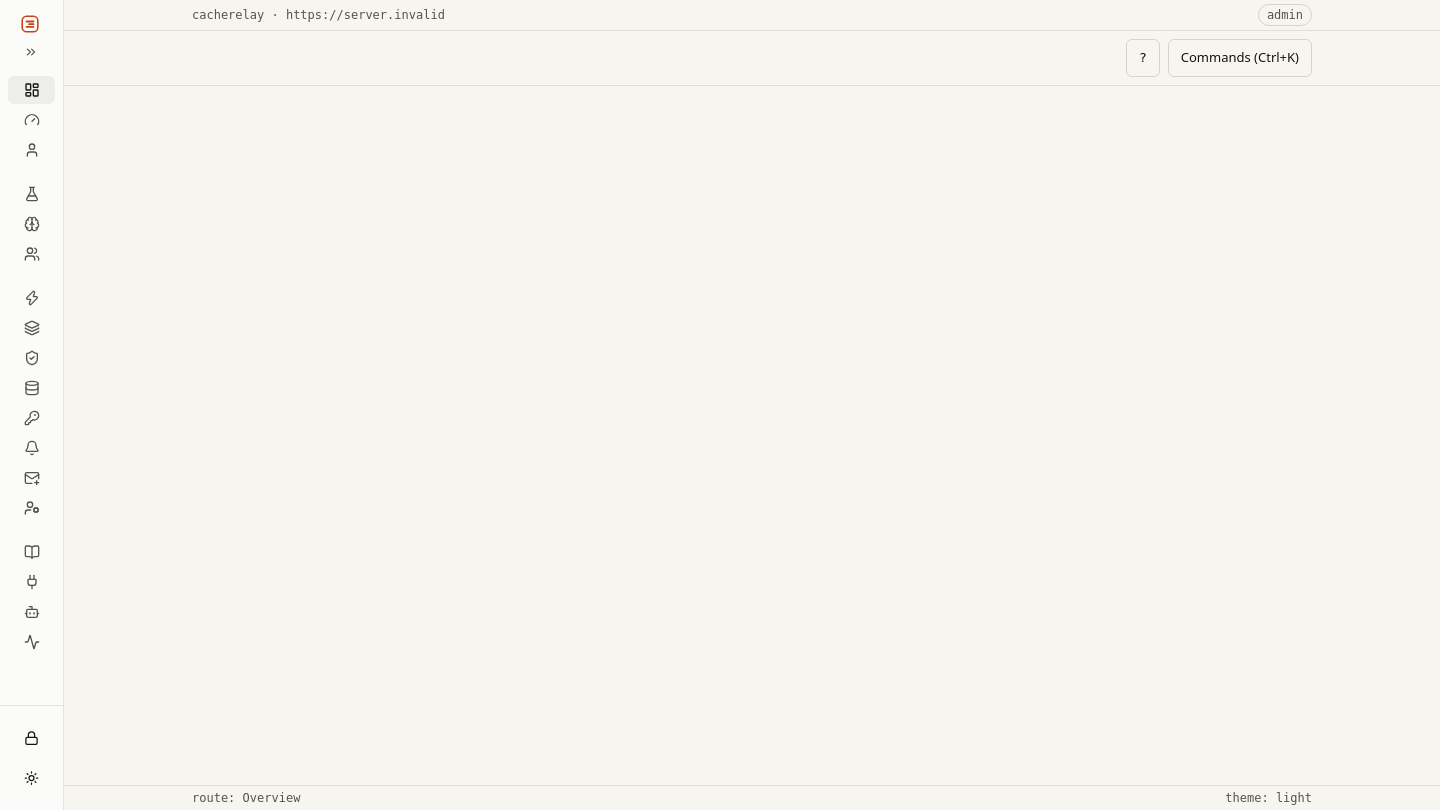
it: Layout › locks from the collapsed sidebar
Click the button named "lock console" at (32, 738), box [16,722,47,754]
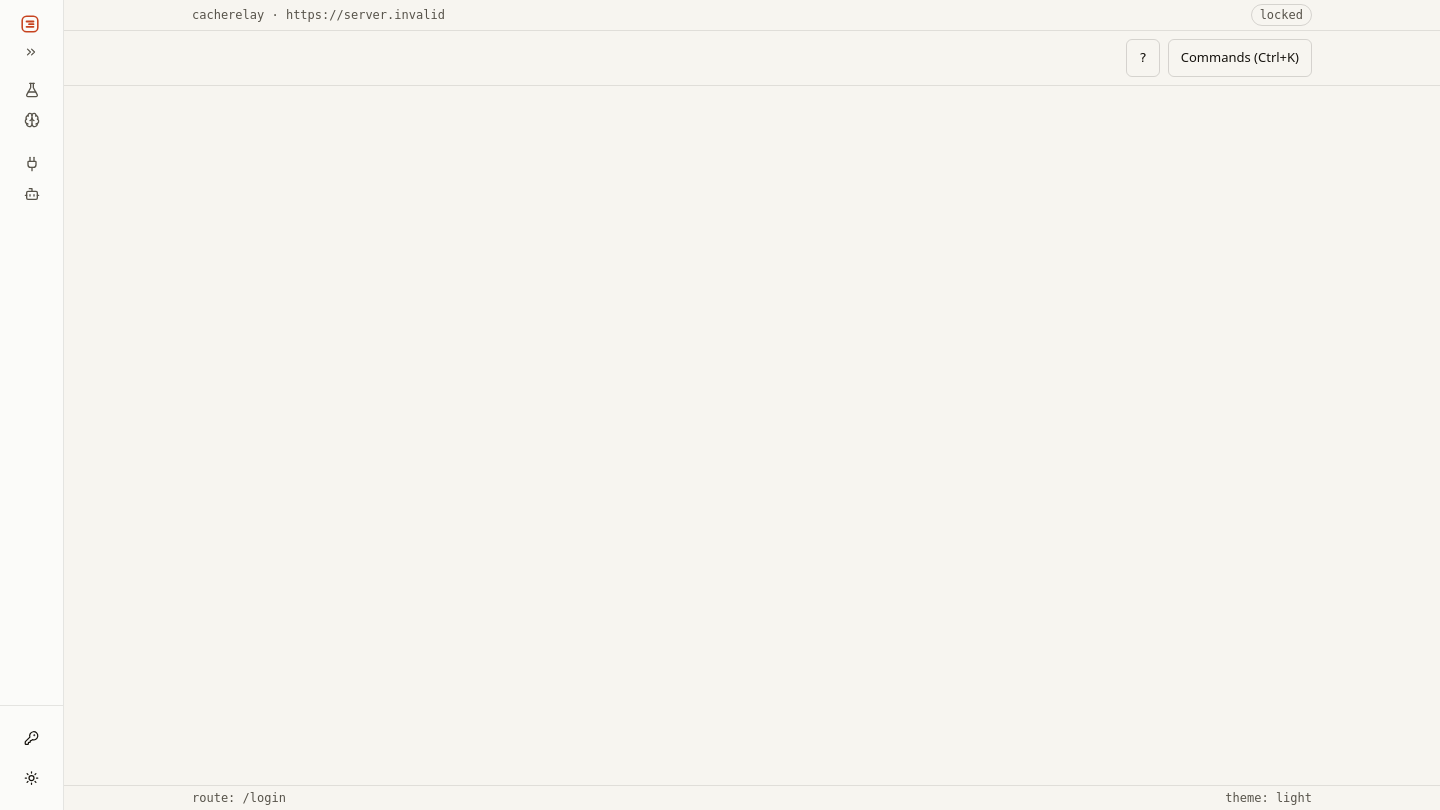
Result: the link named "log in" is shown at [24,730,39,746]
